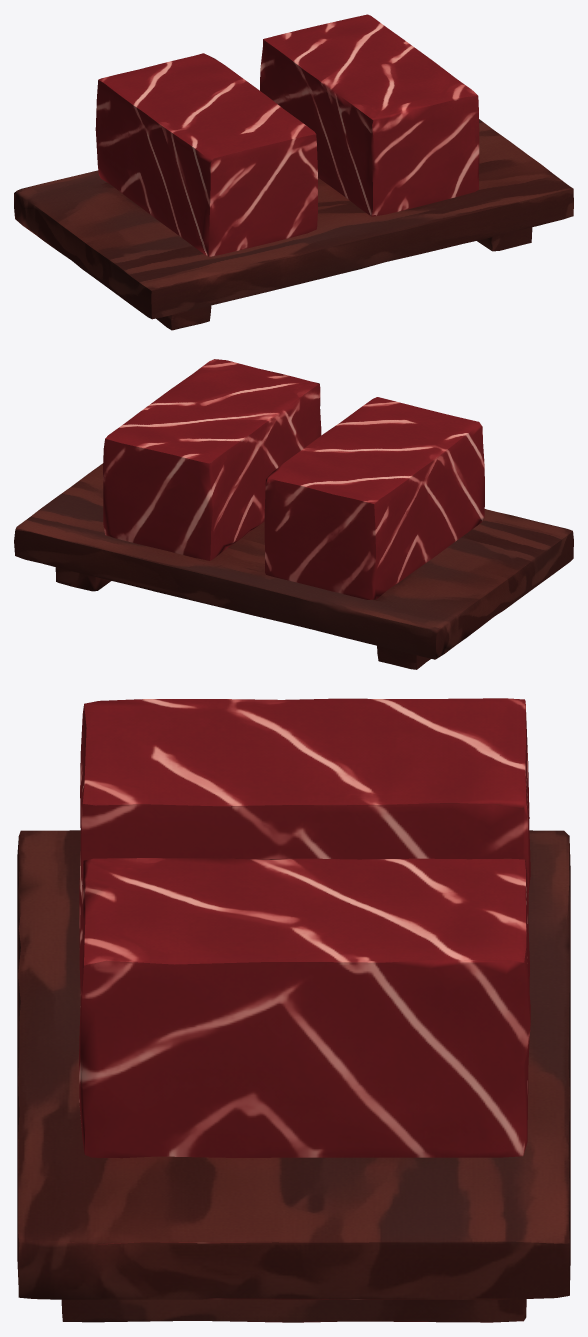
The model's file is sashimi_atun_rojo.glb.
3 renders of one model, top to bottom at view 1: azimuth 30°, elevation 25°; view 2: azimuth 150°, elevation 25°; view 3: azimuth 270°, elevation 25°, orthographic. The views are drawn at different scales.
Parts seen in each view (by area): view 1: world; view 2: world; view 3: world.
Part boxes in pixels (x1,y1,x2,y2): world: (14,14,573,330); world: (14,359,573,669); world: (17,698,570,1322).
Size of the model in its own units: 1 by 0.3588 by 0.5686.
1 material, 1 textured.
